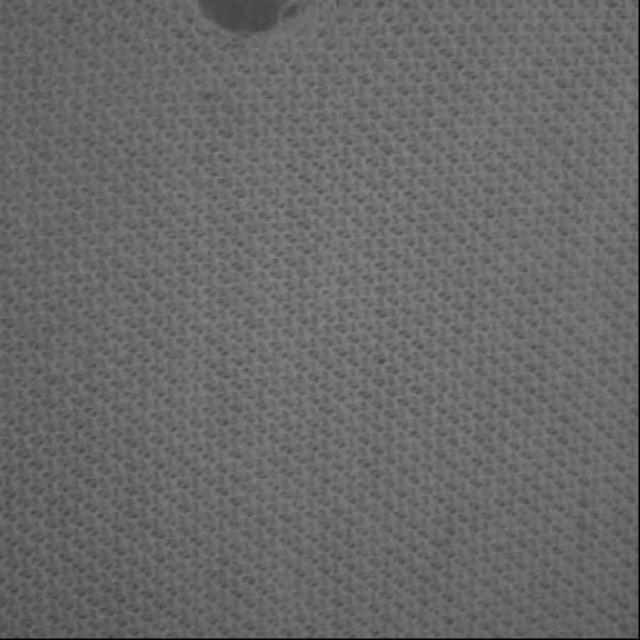Hole: (197, 1, 302, 34)
